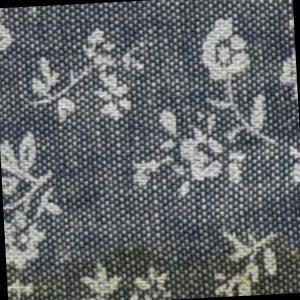Oil Stain: (5, 231, 300, 300)
